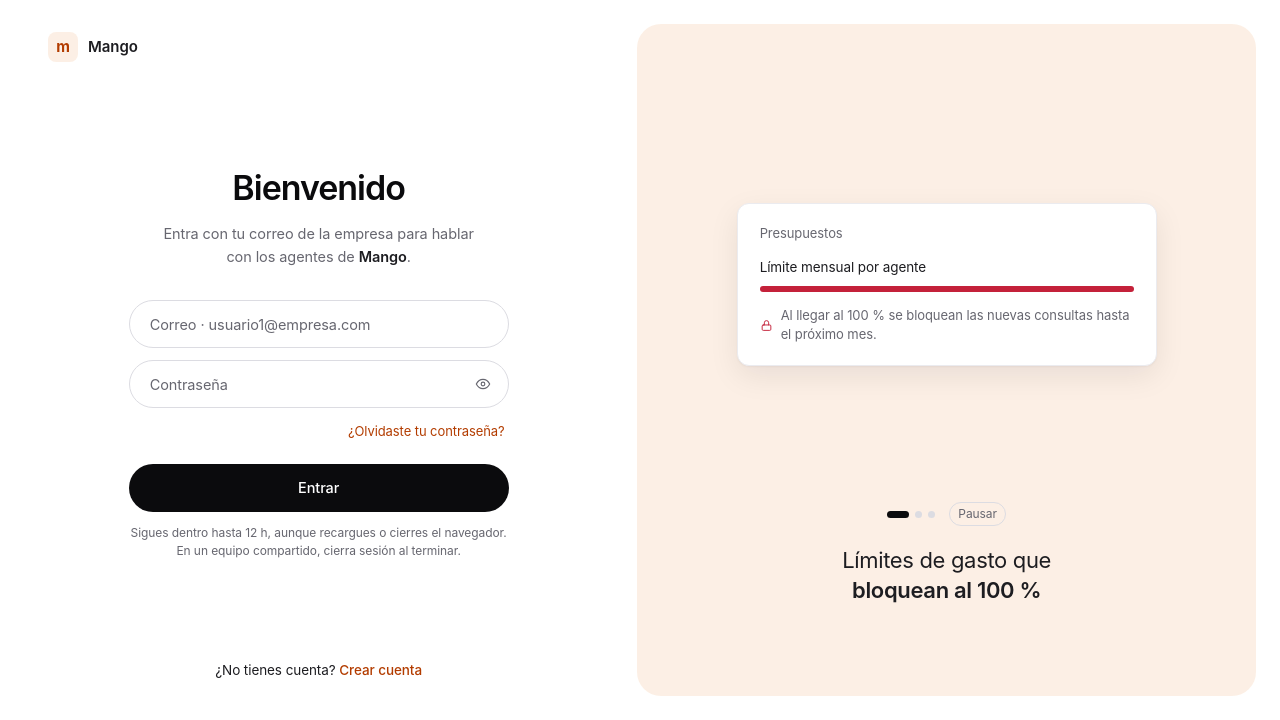
it: LoginPage: sign-in › shows the same message for NotAuthorizedException (no user enumeration)
In the field with placeholder "Correo · usuario1@empresa.com": coordinates (319, 324) [129,300,509,348], type "usuario1@empresa.com"
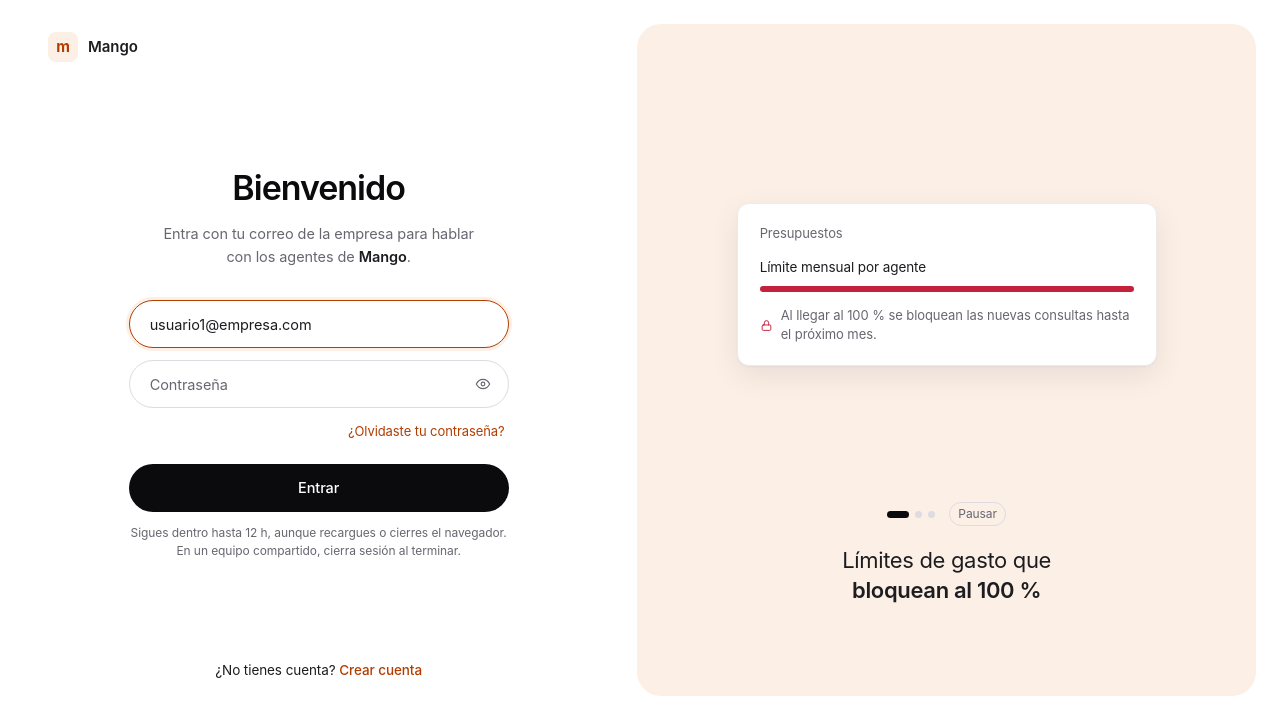
In the password field labelled "Contraseña": coordinates (319, 384) [129,360,509,408], type "Correct-Horse-Battery-9!"
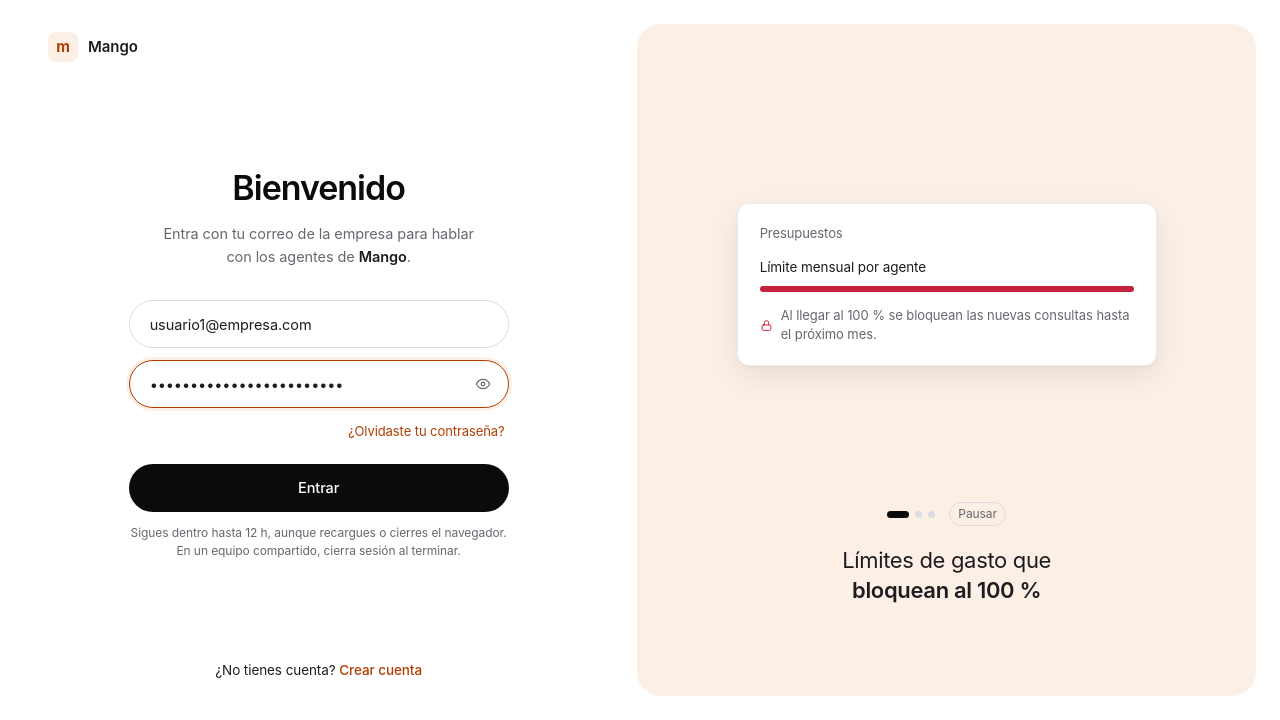
Click the button "Entrar": coordinates (319, 488) [129,464,509,512]
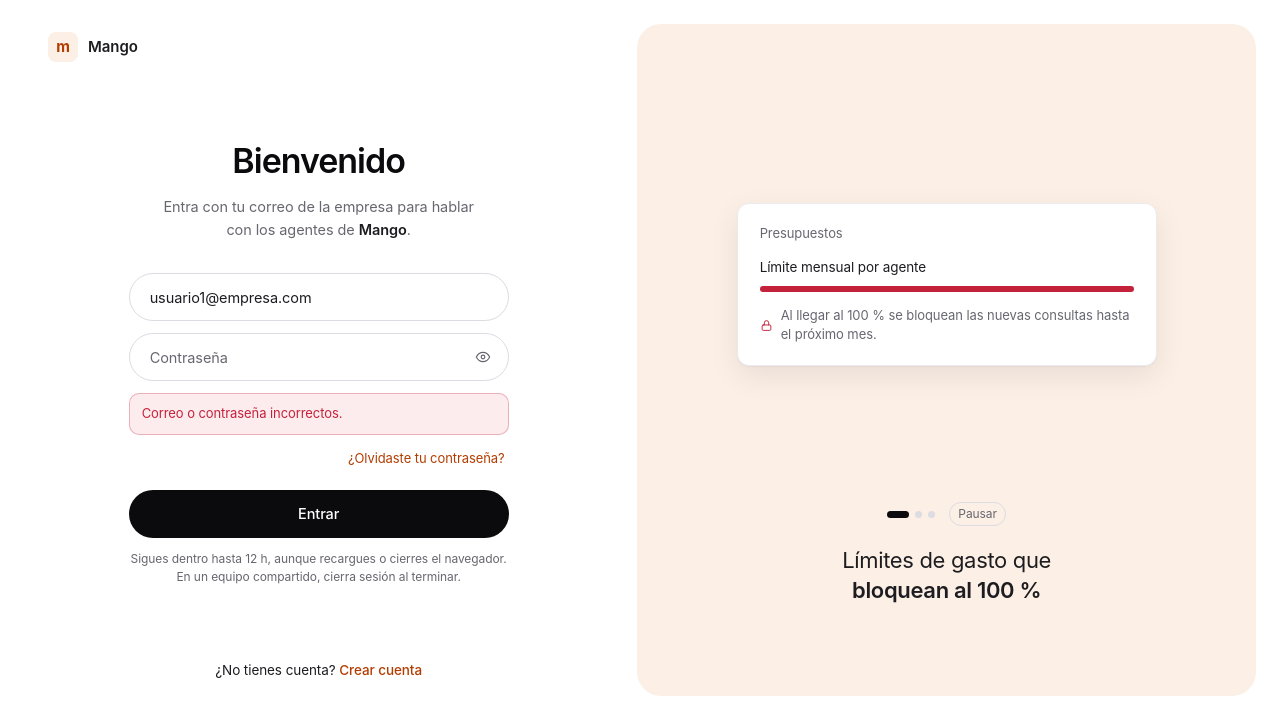
Check: the message reads "Correo o contraseña incorrectos.", box [142,405,342,421]
Check: the password field labelled "Contraseña" is empty, box [129,333,509,381]
